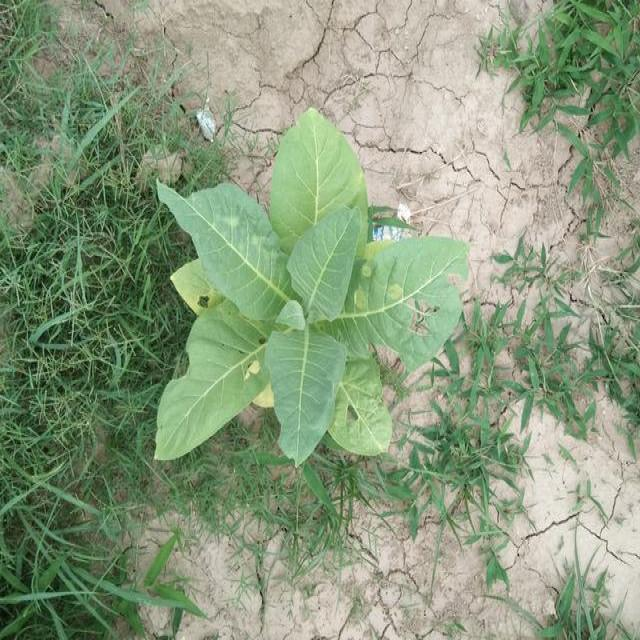crop: (149, 95, 475, 473)
